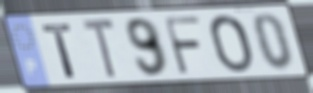0: (251, 11, 297, 73)
9: (123, 15, 173, 79)
F: (161, 15, 205, 77)
O: (208, 13, 255, 75)
T: (79, 17, 118, 82), (40, 22, 79, 80)
